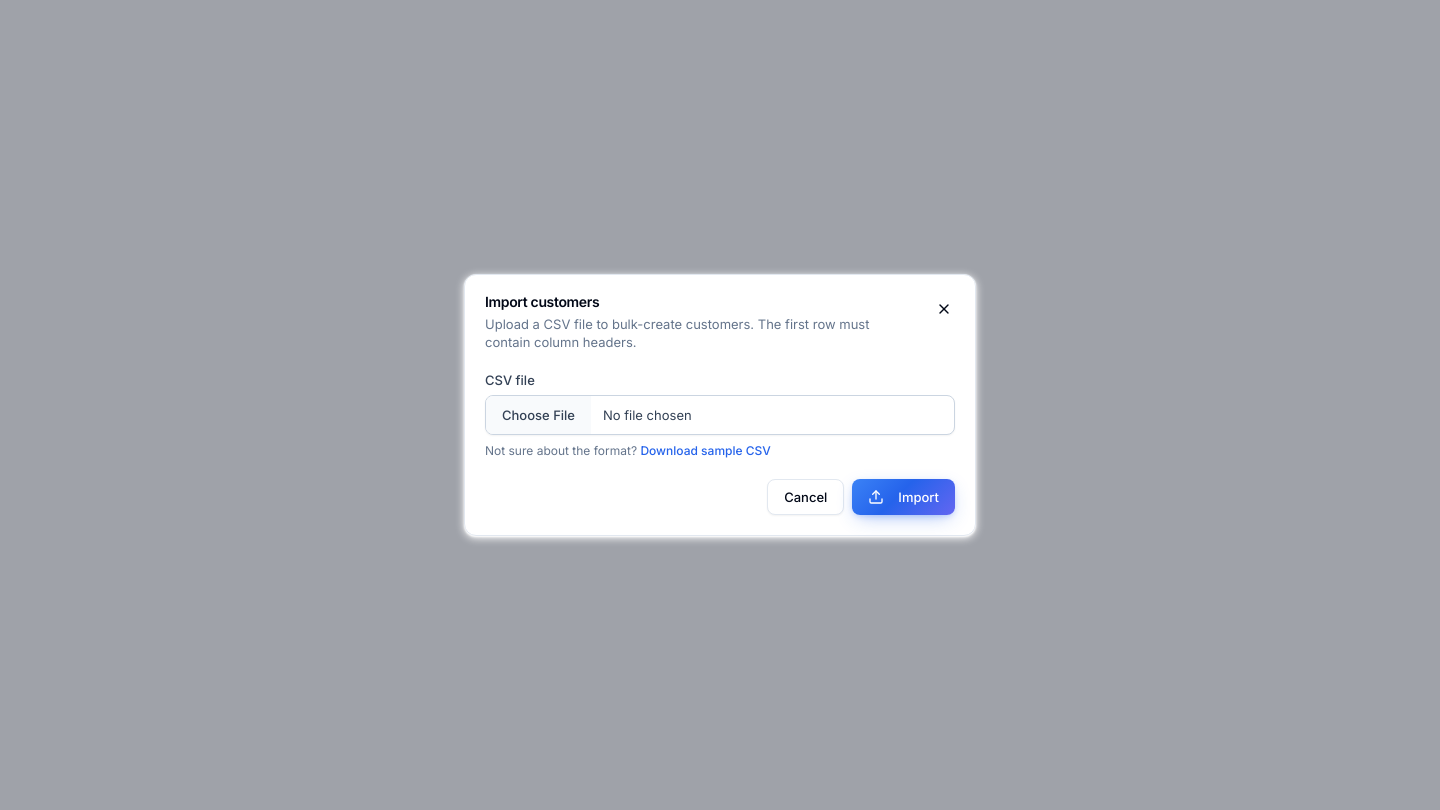
it: CustomerImportDialog › validates that a file is chosen before importing
The image size is (1440, 810).
Click the button "Import".
click(904, 497)  # box [852,479,955,515]
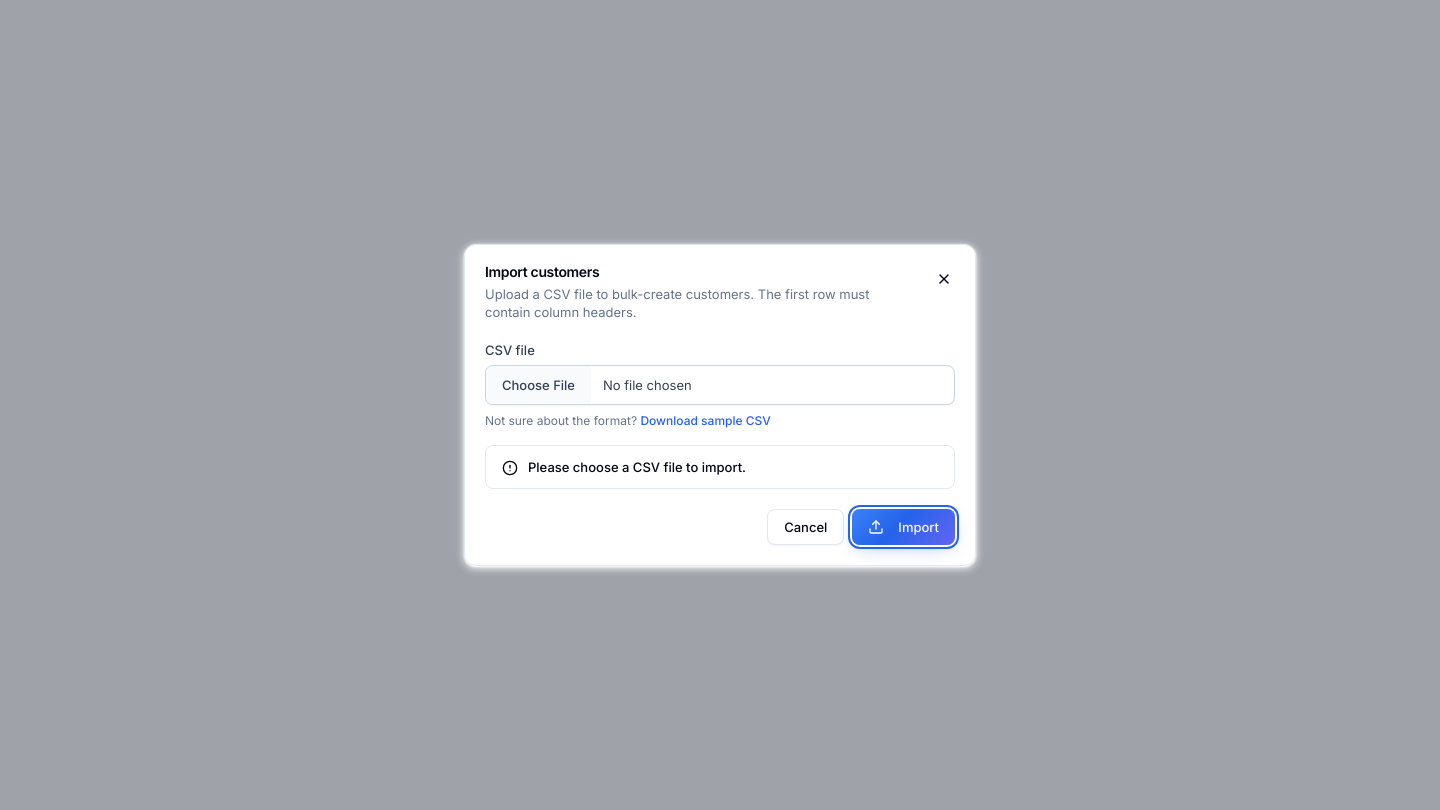
Result: the text "Please choose a CSV file to import." is shown at [528,458,746,476]
